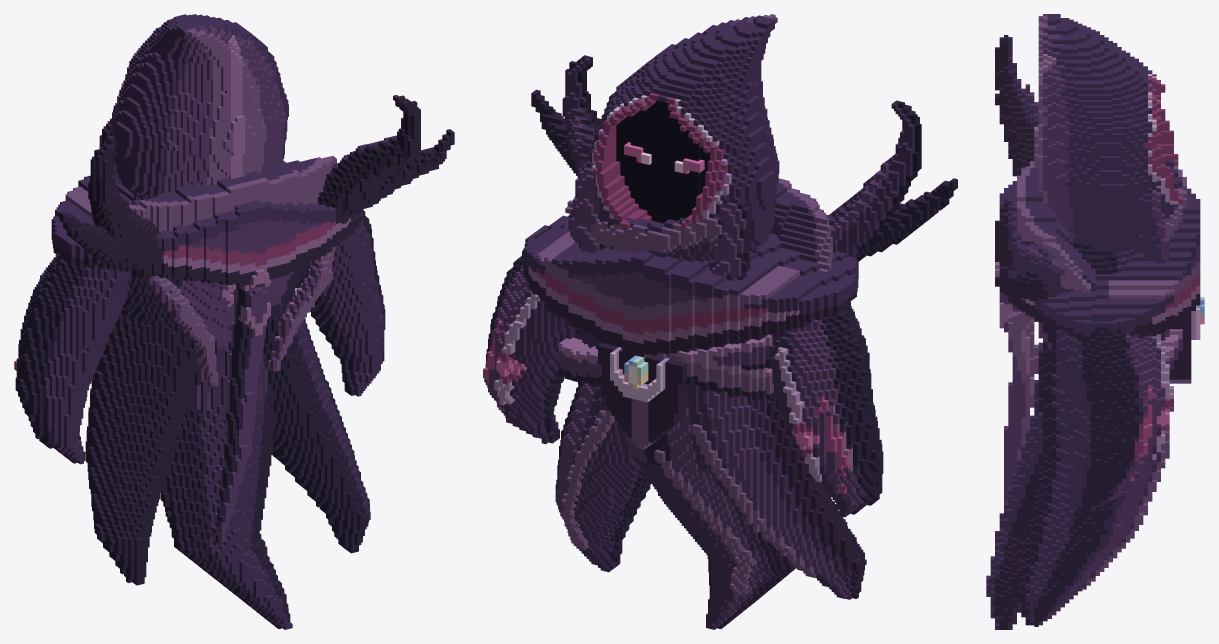
The model's file is signus_hallowed_eclipse.glb.
3 views of the same model, side by side, from view 1: azimuth 30°, elevation 25°; view 2: azimuth 150°, elevation 25°; view 3: azimuth 270°, elevation 25° (orthographic). The views are drawn at different scales.
Visible parts, largest first — view 1: Core, CoreLower, Hood, LeftSleeve, RightSleeve; view 2: Core, Hood, CoreLower, LeftSleeve, RightSleeve; view 3: Core, Hood, CoreLower, RightSleeve.
Part boxes in pixels (left/top/right/bottom): Core: left=51, top=95, right=454, bottom=382; CoreLower: left=85, top=324, right=370, bottom=629; Hood: left=99, top=14, right=288, bottom=200; LeftSleeve: left=14, top=255, right=131, bottom=464; RightSleeve: left=296, top=211, right=385, bottom=396; Core: left=523, top=55, right=957, bottom=447; Hood: left=568, top=14, right=779, bottom=281; CoreLower: left=555, top=384, right=866, bottom=629; LeftSleeve: left=766, top=301, right=883, bottom=517; RightSleeve: left=483, top=229, right=582, bottom=444; Core: left=995, top=35, right=1204, bottom=408; Hood: left=1034, top=14, right=1186, bottom=262; CoreLower: left=986, top=376, right=1191, bottom=629; RightSleeve: left=1056, top=318, right=1173, bottom=513.
Size of the model in its own units: 12.5 by 18.25 by 6.25.
1 material, 1 textured.
